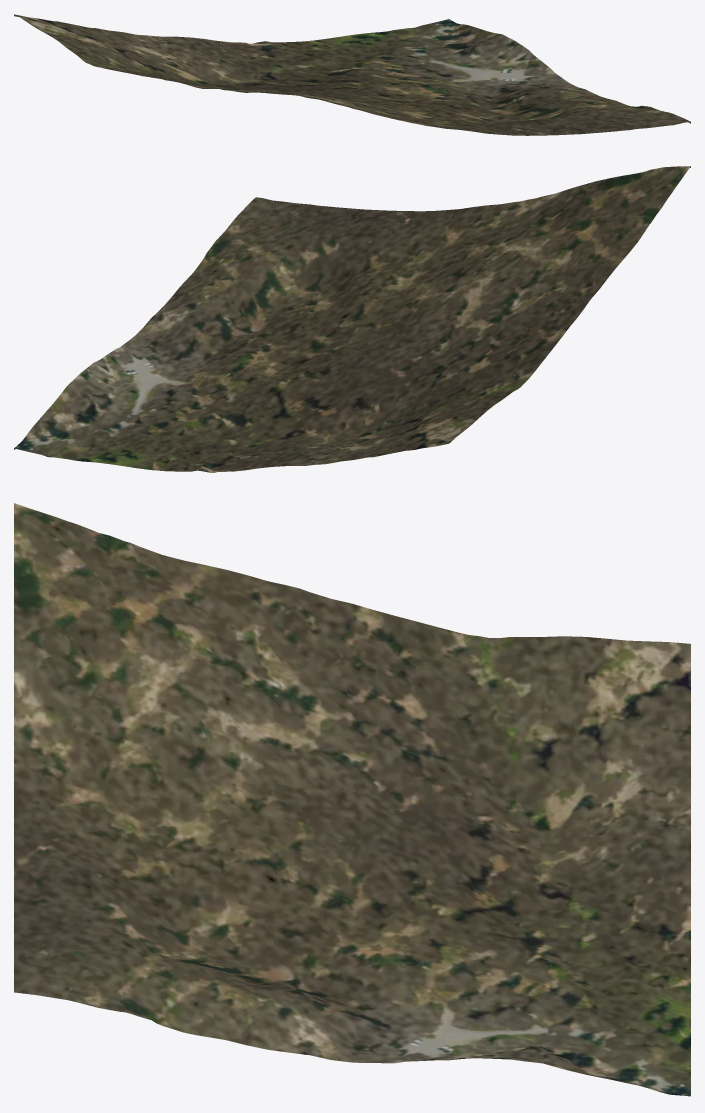
3 renders of one model, top to bottom at view 1: azimuth 30°, elevation 25°; view 2: azimuth 150°, elevation 25°; view 3: azimuth 270°, elevation 25°, orthographic. The views are drawn at different scales.
Size of the model in its own units: 250 by 117 by 241.
Materials: 1 (1 with a texture image).
